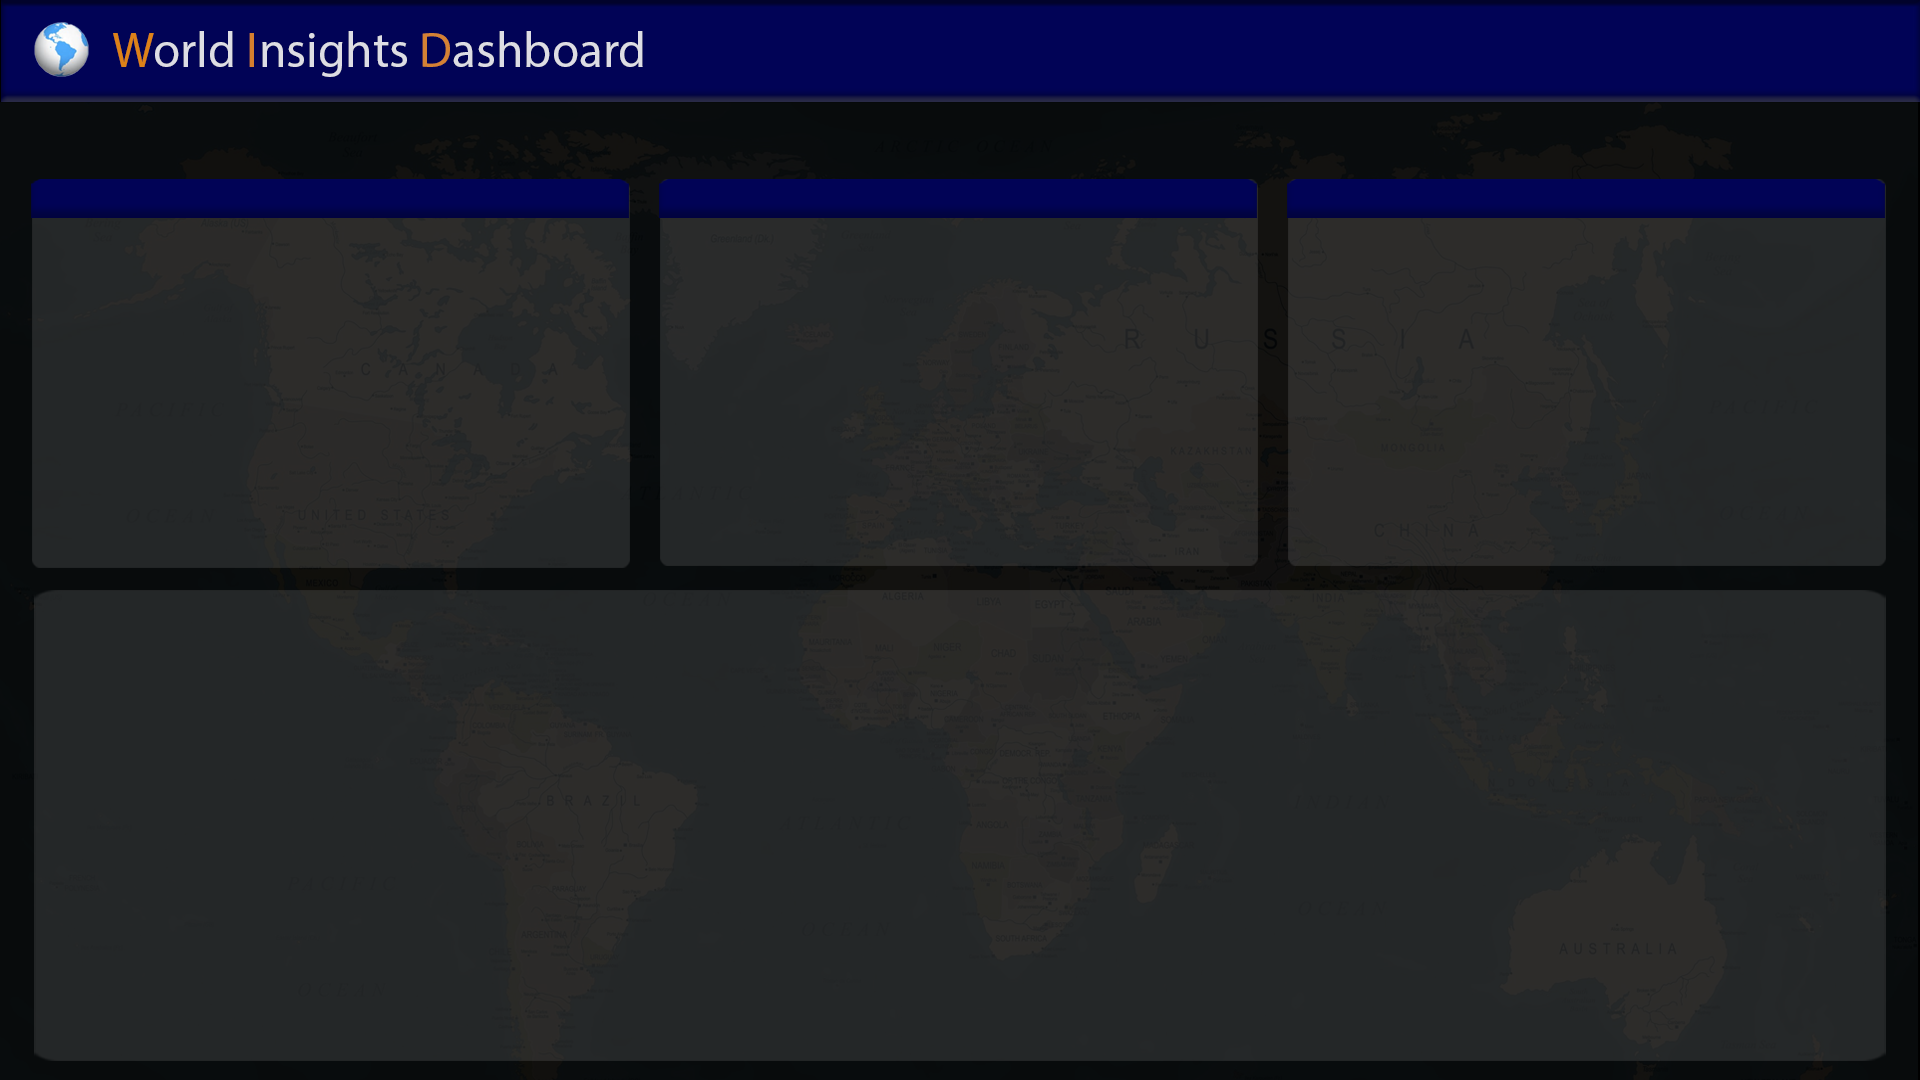

What the dashboard file says about the page in this screenshot:
{"tool":"powerbi","page":{"name":"Global Overview","canvas":[1280,720],"ordinal":1},"visuals":[{"type":"slicer","fields":{"Values":["dCalendario.Date.Variation.Hierarquia de datas.Ano"]},"box":[874,11.4,405,42.1],"z":0},{"type":"slicer","fields":{"Values":["PLANILHA_PAISES.Continente"]},"box":[0,74.6,1280,31.6],"z":1000},{"type":"map","fields":{"Category":["PLANILHA_PAISES.País"],"Size":["Medidas.Valor Selecionado"]},"box":[29.9,429.4,1222.2,272.2],"z":2000},{"type":"slicer","fields":{"Values":["Indicador.Indicador"]},"box":[7.9,391.6,1262.6,42.1],"z":3000},{"type":"tableEx","fields":{"Values":["PLANILHA_PAISES.CountryFlag","PLANILHA_PAISES.País","PLANILHA_PAISES.Espectativa de Vida"]},"box":[25.5,149.3,393.4,223],"z":4000},{"type":"image","box":[389.9,112.4,35.1,35.1],"z":5000},{"type":"textbox","box":[30.7,116.8,256.4,30.7],"z":6000},{"type":"tableEx","fields":{"Values":["PLANILHA_PAISES.CountryFlag","PLANILHA_PAISES.País","PLANILHA_PAISES.Índice de Felicidade"]},"box":[862.4,148.4,388.1,223],"z":7000},{"type":"image","box":[1216.2,112.4,35.1,35.1],"z":8000},{"type":"textbox","box":[871.9,116,256.4,30.7],"z":9000},{"type":"textbox","box":[353,39.5,90.4,31.6],"z":10000},{"type":"tableEx","fields":{"Values":["PLANILHA_PAISES.CountryFlag","PLANILHA_PAISES.País","PLANILHA_PAISES.Nível de Corrupção"]},"box":[440.7,148.4,395.1,223],"z":11000},{"type":"image","box":[805.9,112.4,35.1,35.1],"z":12000},{"type":"textbox","box":[449.4,116,312.6,30.7],"z":13000},{"type":"actionButton","box":[839.4,12.3,44.8,40.4],"z":14001}]}

Visuals, with their boxes in screenshot pixels (x1, y1, x2, y2), scaled from the page's 1280x720 canvas onto the 1920x1080 screenshot:
slicer - dCalendario.Date.Variation.Hierarquia de datas.Ano: pyautogui.locateOnScreen(1311, 17, 1918, 80)
slicer - PLANILHA_PAISES.Continente: pyautogui.locateOnScreen(0, 112, 1919, 159)
map - PLANILHA_PAISES.País x Medidas.Valor Selecionado: pyautogui.locateOnScreen(45, 644, 1878, 1052)
slicer - Indicador.Indicador: pyautogui.locateOnScreen(12, 587, 1906, 651)
tableEx - PLANILHA_PAISES.CountryFlag x PLANILHA_PAISES.País: pyautogui.locateOnScreen(38, 224, 628, 558)
image: pyautogui.locateOnScreen(585, 169, 638, 221)
textbox: pyautogui.locateOnScreen(46, 175, 431, 221)
tableEx - PLANILHA_PAISES.CountryFlag x PLANILHA_PAISES.País: pyautogui.locateOnScreen(1294, 223, 1876, 557)
image: pyautogui.locateOnScreen(1824, 169, 1877, 221)
textbox: pyautogui.locateOnScreen(1308, 174, 1692, 220)
textbox: pyautogui.locateOnScreen(530, 59, 665, 107)
tableEx - PLANILHA_PAISES.CountryFlag x PLANILHA_PAISES.País: pyautogui.locateOnScreen(661, 223, 1254, 557)
image: pyautogui.locateOnScreen(1209, 169, 1262, 221)
textbox: pyautogui.locateOnScreen(674, 174, 1143, 220)
actionButton: pyautogui.locateOnScreen(1259, 18, 1326, 79)
